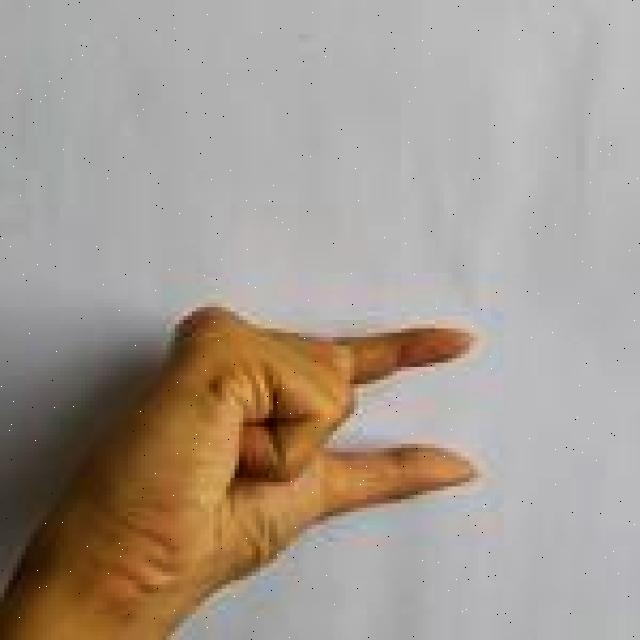G: (0, 297, 489, 640)
